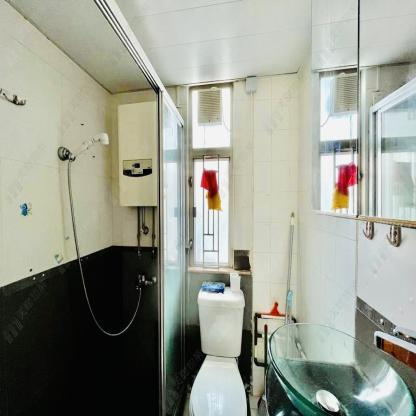Exhaust Fan: (197, 89, 222, 124)
Toilet: (187, 283, 248, 415)
Toilet Sink: (266, 320, 416, 415)
Water Heater: (117, 100, 159, 208)
